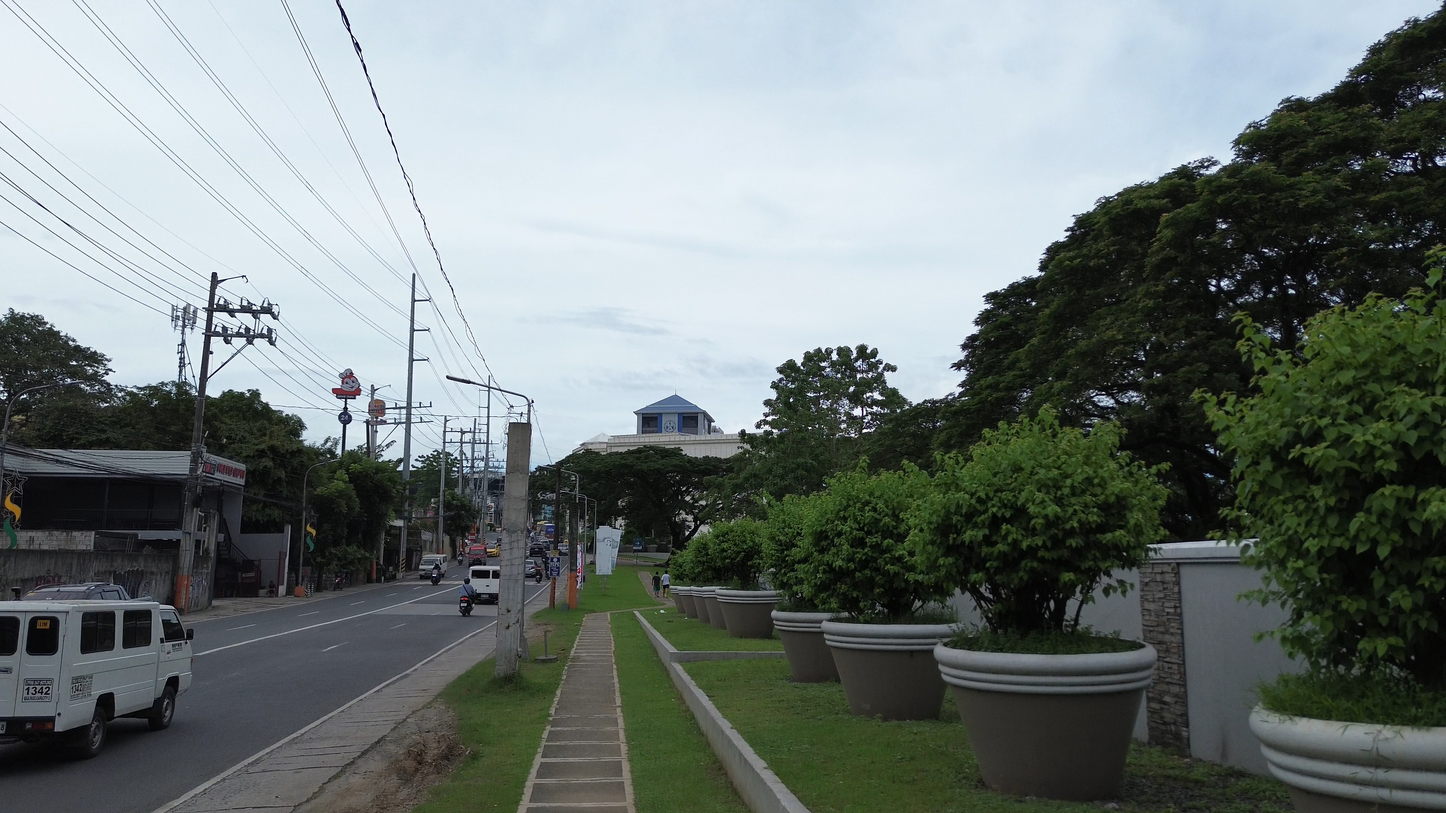car: (524, 560, 541, 579)
motorcycle: (459, 597, 472, 617), (430, 571, 441, 586)
vehicle: (0, 600, 193, 757), (21, 582, 131, 600), (469, 565, 500, 603), (419, 553, 448, 578), (468, 545, 487, 564), (527, 541, 547, 557), (524, 560, 541, 578), (485, 541, 500, 557)
